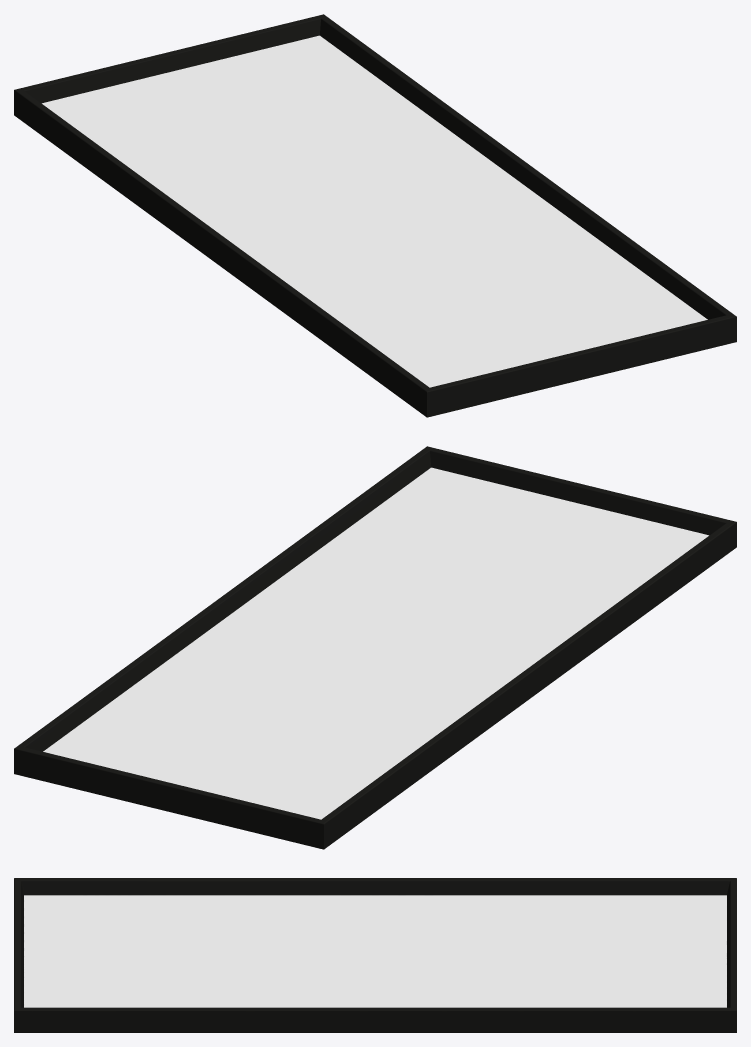
The model's file is 07 - NISSEDAL Mirror - black 65x150 cm.glb.
3 renders of one model, top to bottom at view 1: azimuth 30°, elevation 25°; view 2: azimuth 150°, elevation 25°; view 3: azimuth 270°, elevation 25°, orthographic. The views are drawn at different scales.
Visible parts, largest first — view 1: Mesh_0; view 2: Mesh_0; view 3: Mesh_0.
Boxes of the visible parts, left/top/right/bottom form: Mesh_0: left=14, top=14, right=736, bottom=417; Mesh_0: left=14, top=446, right=736, bottom=849; Mesh_0: left=14, top=878, right=736, bottom=1032.
Bounding box in the file's own units: 0.65 × 0.053 × 1.5.
Materials: 1 (1 with a texture image).
